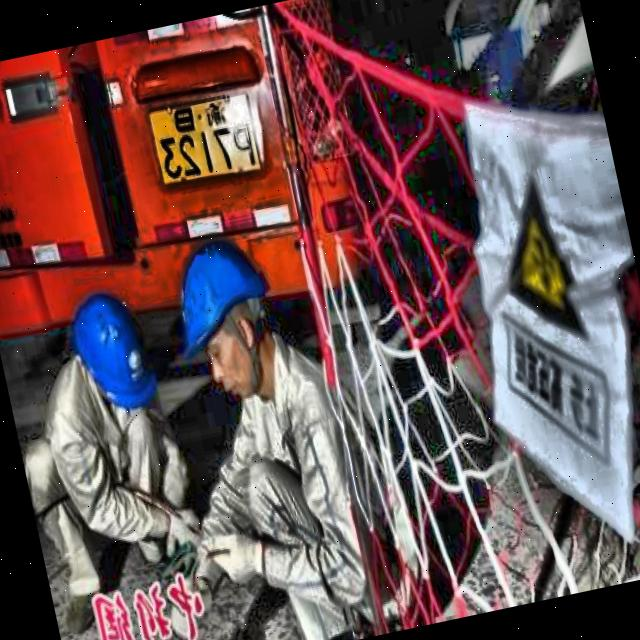helmet: (161, 216, 302, 424), (58, 280, 165, 444)
